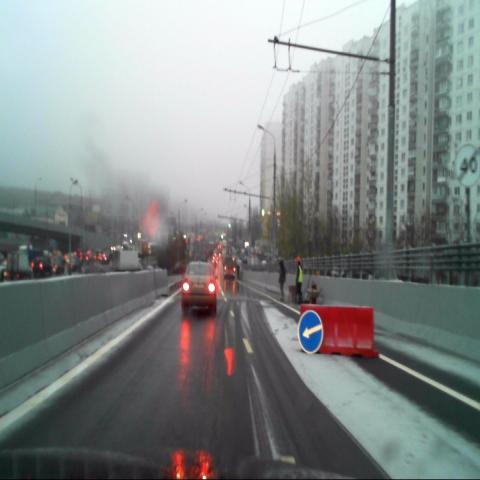3_25: (456, 143, 480, 187)
4_2_2: (299, 311, 323, 354)
